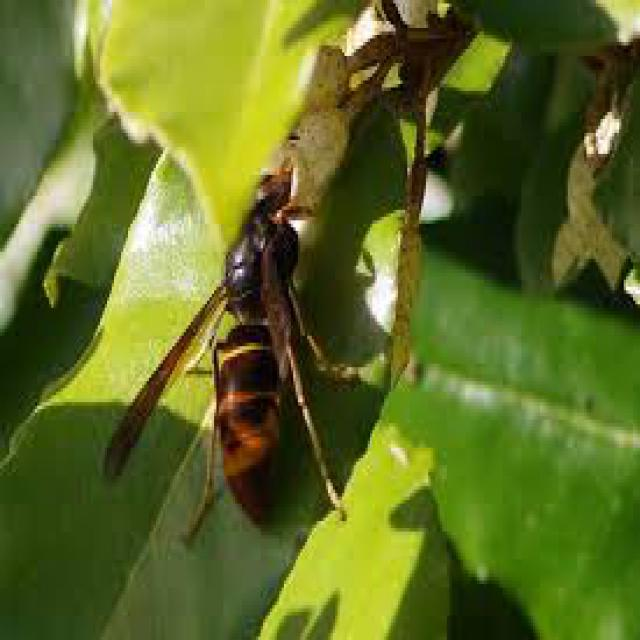Vespa Velutina: (96, 160, 372, 562)
